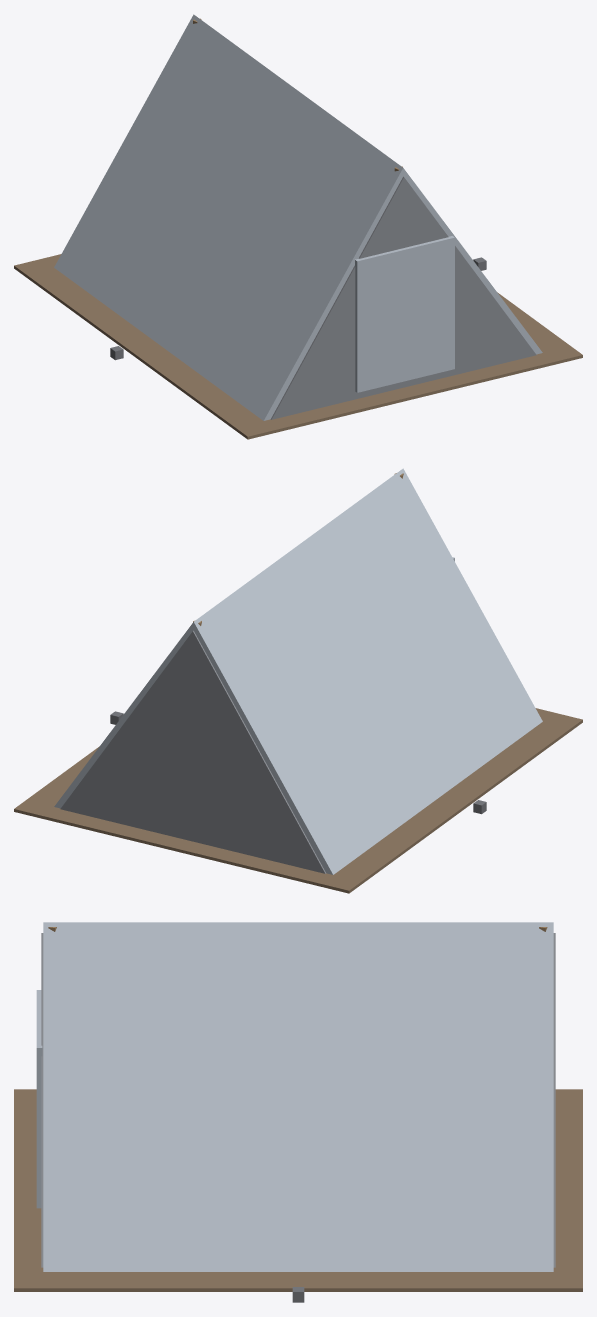
The model's file is Cadir_Mavi.glb.
The picture shows the model from 3 angles, top to bottom: view 1: azimuth 30°, elevation 25°; view 2: azimuth 150°, elevation 25°; view 3: azimuth 270°, elevation 25°; orthographic projection. The views are drawn at different scales.
Parts seen in each view (by area): view 1: Cadir_Mavi; view 2: Cadir_Mavi; view 3: Cadir_Mavi.
Part boxes in pixels (x1,y1,x2,y2): Cadir_Mavi: (14,14,582,439); Cadir_Mavi: (14,468,582,893); Cadir_Mavi: (14,922,582,1302).
Bounding box in the file's own units: 2.66 × 1.52 × 2.9.
